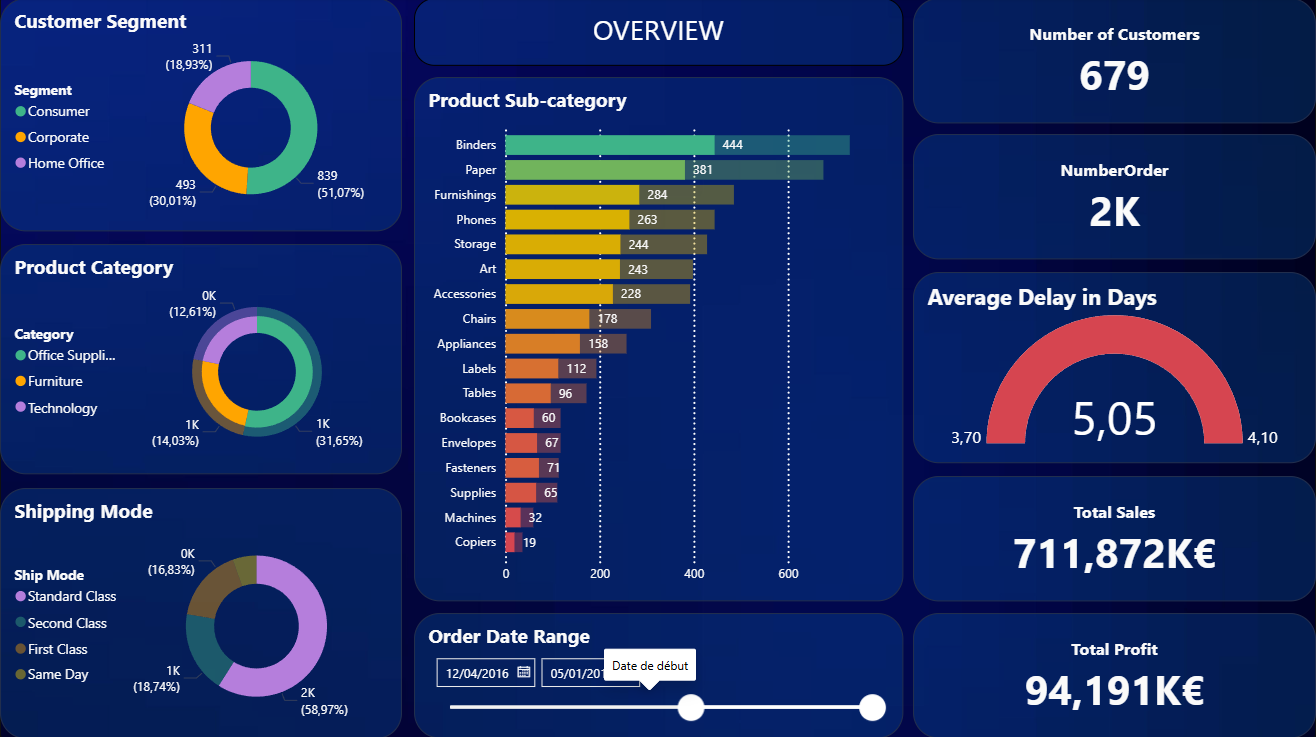

Layout of this report page (visuals, bound fields, positions):
{"tool":"powerbi","page":{"name":"Overview","canvas":[1280,720],"ordinal":0},"visuals":[{"type":"textbox","title":"Retail Performance Dashboard","box":[402.2,0,475.6,65.6],"z":0},{"type":"donutChart","title":"Customer Segment","fields":{"Category":["Segment.Segment"],"Y":["Mesure.NumberOrder"]},"box":[0,0,390.9,227.3],"z":1000},{"type":"donutChart","title":"Shipping Mode","fields":{"Category":["Ship.Ship Mode"],"Y":["Mesure.NumberOrder"]},"box":[0,476.4,390.9,243.6],"z":2000},{"type":"donutChart","title":"Product Category","fields":{"Category":["Product.Category"],"Y":["Mesure.NumberOrder"]},"box":[0,239.1,390.9,223.6],"z":3000},{"type":"barChart","title":"Product Sub-category","fields":{"Category":["Product.Sub-Category"],"Y":["Mesure.NumberOrder"]},"box":[402.2,76.7,475.6,510],"z":4000},{"type":"slicer","title":"Order Date Range","fields":{"Values":["TableDate.Date"]},"box":[402.2,597.8,475.6,122.2],"z":5000},{"type":"cardVisual","fields":{"Data":["Mesure.NumberOrder"]},"box":[887.8,132.2,392.2,122.2],"z":6000},{"type":"cardVisual","fields":{"Data":["Mesure.Profit"]},"box":[887.8,597.8,392.2,122.2],"z":7000},{"type":"cardVisual","fields":{"Data":["Mesure.Sales"]},"box":[887.8,464.4,392.2,122.2],"z":8000},{"type":"gauge","fields":{"Y":["Mesure.DelayDays"]},"box":[887.8,266.7,392.2,185.6],"z":9000},{"type":"cardVisual","fields":{"Data":["Count(Sample - Superstore.Customer ID)"]},"box":[887.8,0,392.2,122.2],"z":10000}]}

Visuals, with their boxes in screenshot pixels (x1, y1, x2, y2), scaled from the page's 1280x720 canvas onto the 1316x737 screenshot:
"Retail Performance Dashboard" textbox: <bbox>414, 0, 902, 67</bbox>
"Customer Segment" donutChart: <bbox>0, 0, 402, 233</bbox>
"Shipping Mode" donutChart: <bbox>0, 488, 402, 736</bbox>
"Product Category" donutChart: <bbox>0, 245, 402, 474</bbox>
"Product Sub-category" barChart: <bbox>414, 79, 902, 601</bbox>
"Order Date Range" slicer: <bbox>414, 612, 902, 736</bbox>
cardVisual - Mesure.NumberOrder: <bbox>913, 135, 1315, 260</bbox>
cardVisual - Mesure.Profit: <bbox>913, 612, 1315, 736</bbox>
cardVisual - Mesure.Sales: <bbox>913, 475, 1315, 600</bbox>
gauge - Mesure.DelayDays: <bbox>913, 273, 1315, 463</bbox>
cardVisual - Count(Sample - Superstore.Customer ID): <bbox>913, 0, 1315, 125</bbox>
